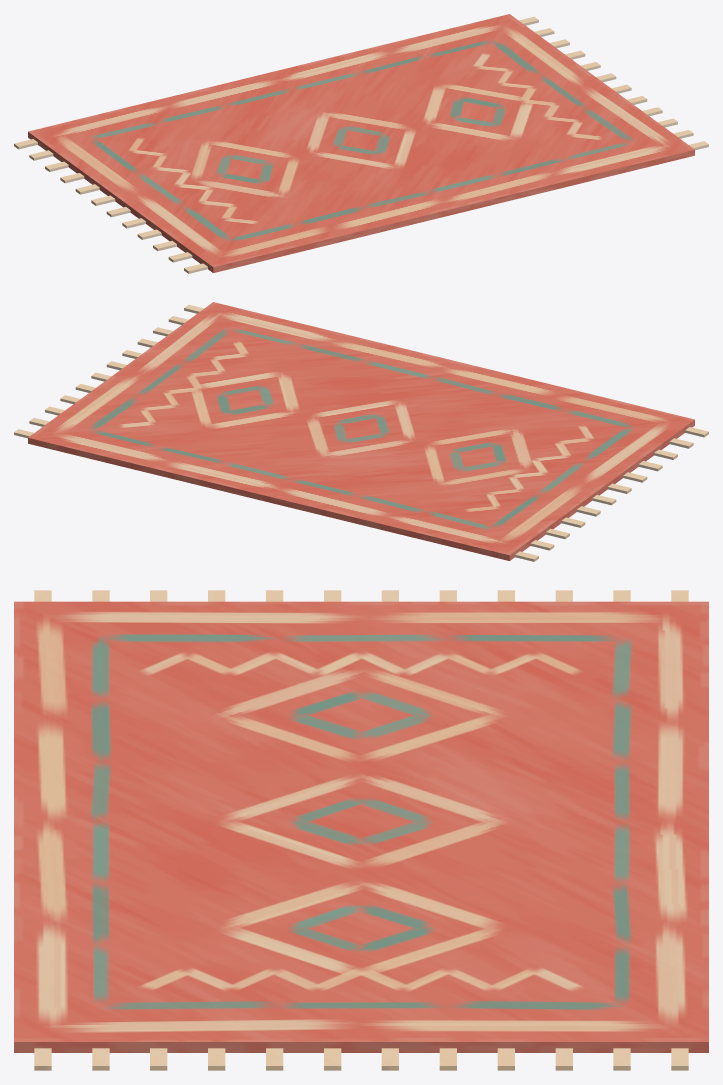
Rendered from rug.bundle.fbx.
The picture shows the model from 3 angles, top to bottom: view 1: azimuth 30°, elevation 25°; view 2: azimuth 150°, elevation 25°; view 3: azimuth 270°, elevation 25°; orthographic projection. The views are drawn at different scales.
Visible parts, largest first — view 1: rug; view 2: rug; view 3: rug.
Part boxes in pixels (<box>): rug: <box>14,14,708,273</box>; rug: <box>14,302,708,561</box>; rug: <box>14,590,708,1070</box>.
Size of the model in its own units: 6.48 by 0.07 by 4.
1 material, 1 textured.
